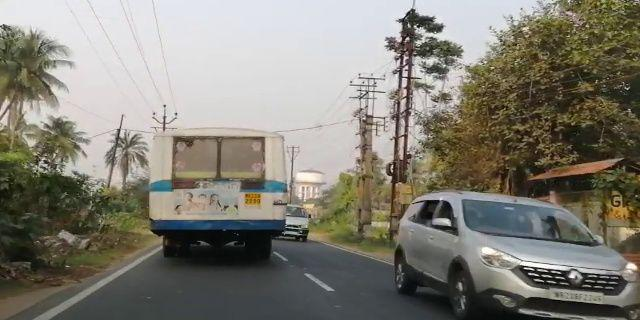Bus: (142, 125, 288, 269)
Car: (392, 182, 640, 319)
Van: (279, 203, 311, 247)
